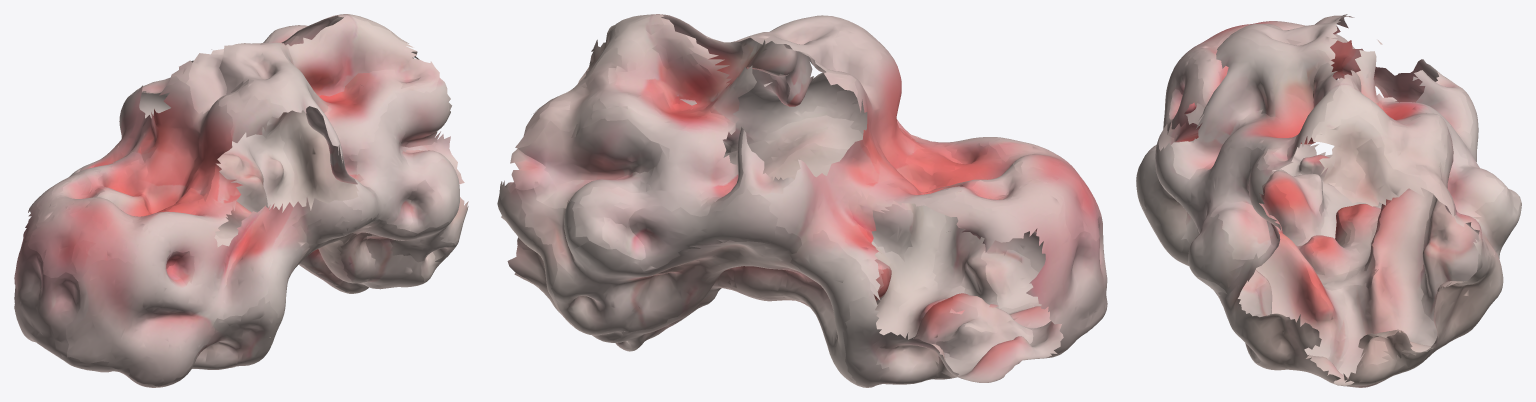
File: Aussen1.glb
3 views of the same model, side by side, from view 1: azimuth 30°, elevation 25°; view 2: azimuth 150°, elevation 25°; view 3: azimuth 270°, elevation 25° (orthographic). The views are drawn at different scales.
Size of the model in its own units: 3.74 by 2.34 by 2.75.
Materials: 1 (1 with a texture image).
